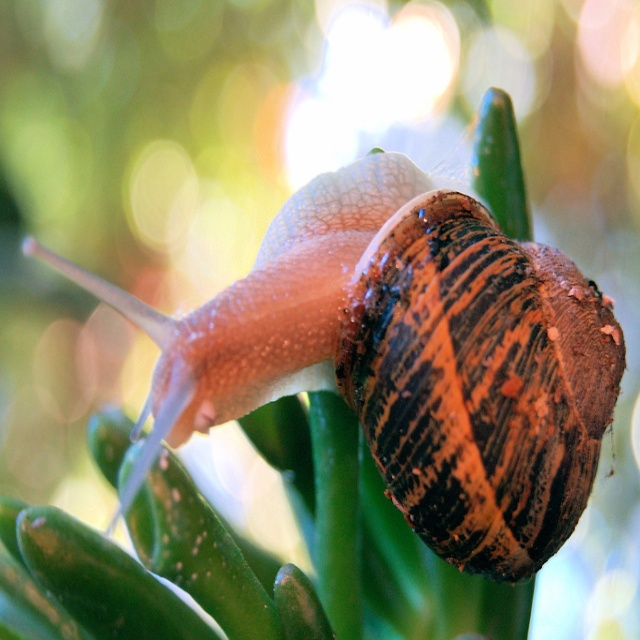Snail: (20, 143, 625, 594)
